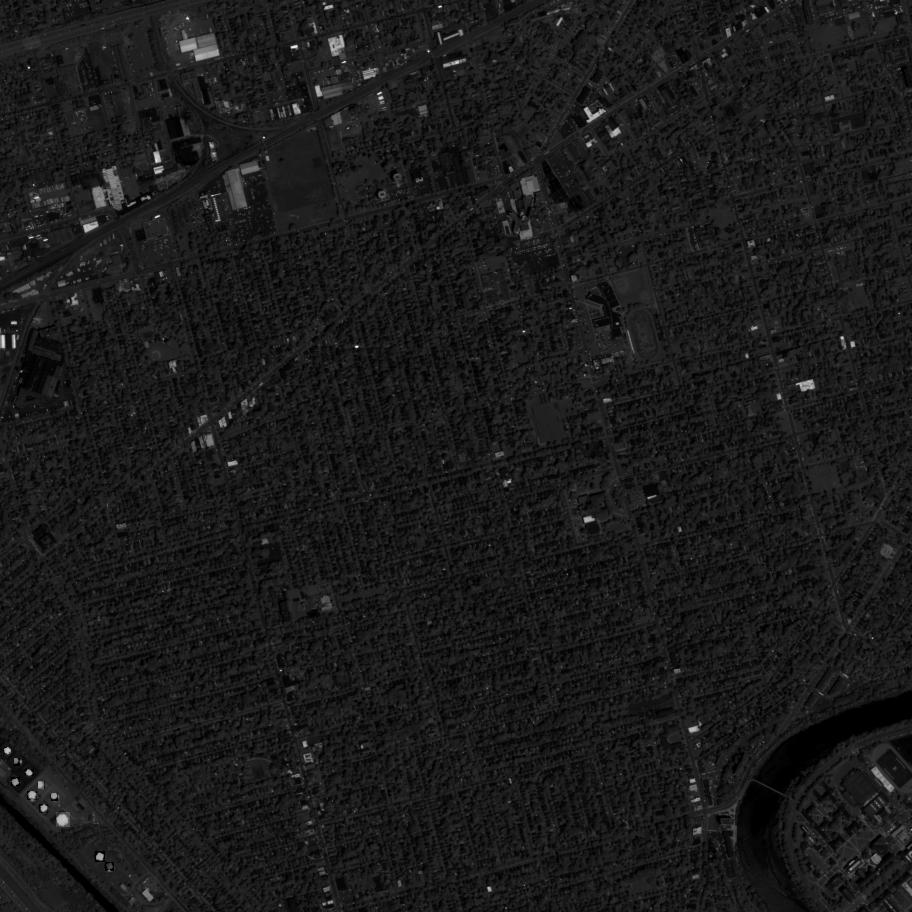storage-tank: (55, 813, 71, 829), (94, 851, 106, 864), (27, 791, 38, 802), (39, 804, 50, 814), (11, 777, 20, 786), (25, 769, 34, 777), (106, 863, 114, 870), (5, 748, 12, 755), (51, 794, 58, 800), (39, 782, 44, 789), (15, 758, 19, 765)
